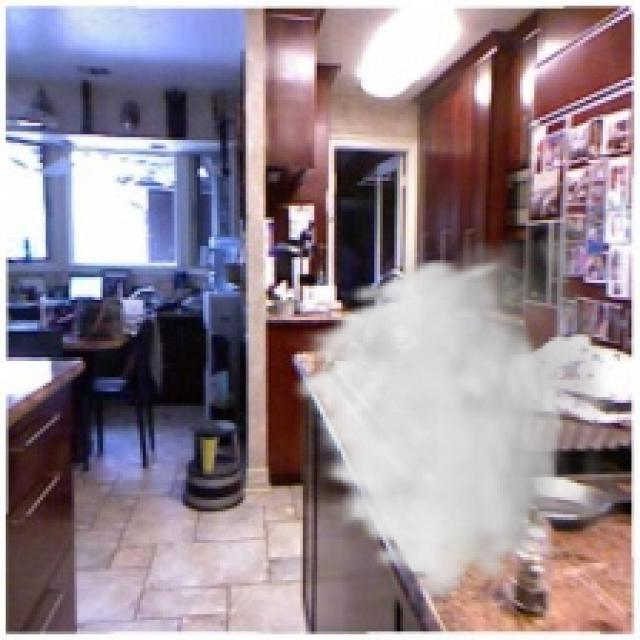Smoke: (286, 183, 632, 603)
